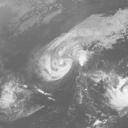cyclone: (30, 39, 85, 82), (105, 73, 127, 113)
